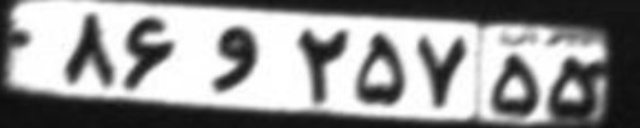2: (293, 27, 345, 103)
5: (356, 29, 405, 104), (488, 51, 538, 115), (548, 55, 595, 119)
6: (124, 16, 178, 90)
7: (416, 34, 465, 108)
8: (64, 12, 116, 86)
vav: (209, 25, 264, 91)
